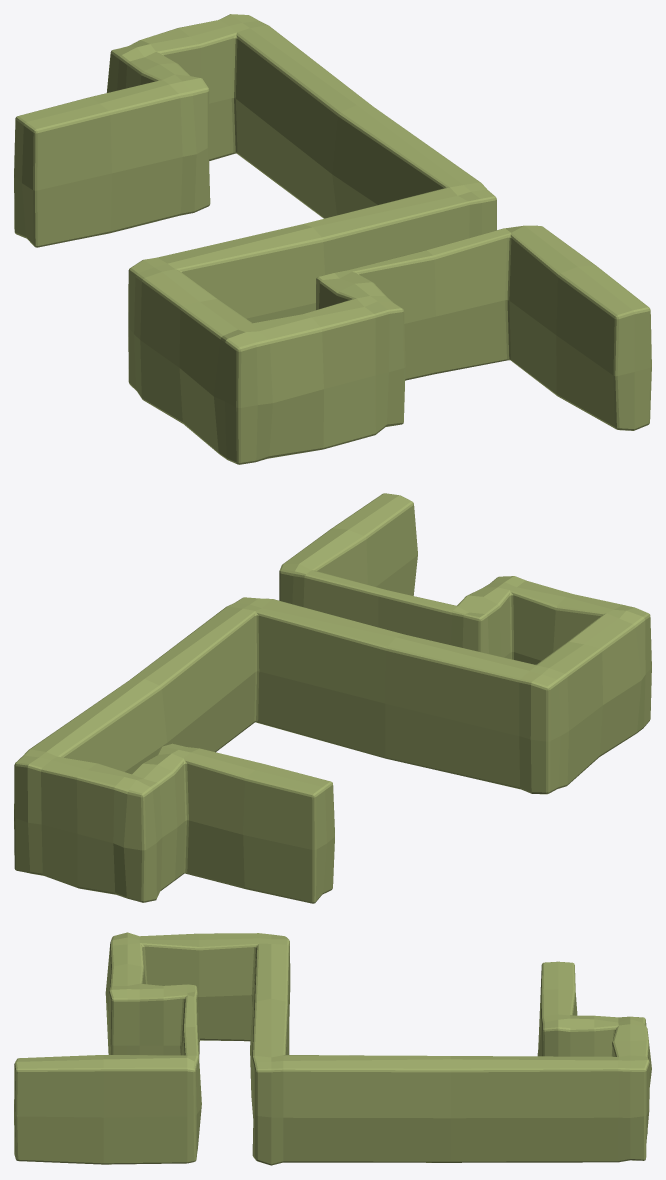
File: Wall piece 6.fbx
3 views of the same model, one above another, from view 1: azimuth 30°, elevation 25°; view 2: azimuth 150°, elevation 25°; view 3: azimuth 270°, elevation 25° (orthographic). The views are drawn at different scales.
Visible parts, largest first — view 1: wall piece 6O; view 2: wall piece 6O; view 3: wall piece 6O.
Part boxes in pixels (x1=…): wall piece 6O: x1=14, y1=14, x2=651, y2=464; wall piece 6O: x1=14, y1=493, x2=651, y2=903; wall piece 6O: x1=14, y1=932, x2=651, y2=1165.
Bounding box in the file's own units: 1381 × 2666 × 477.
